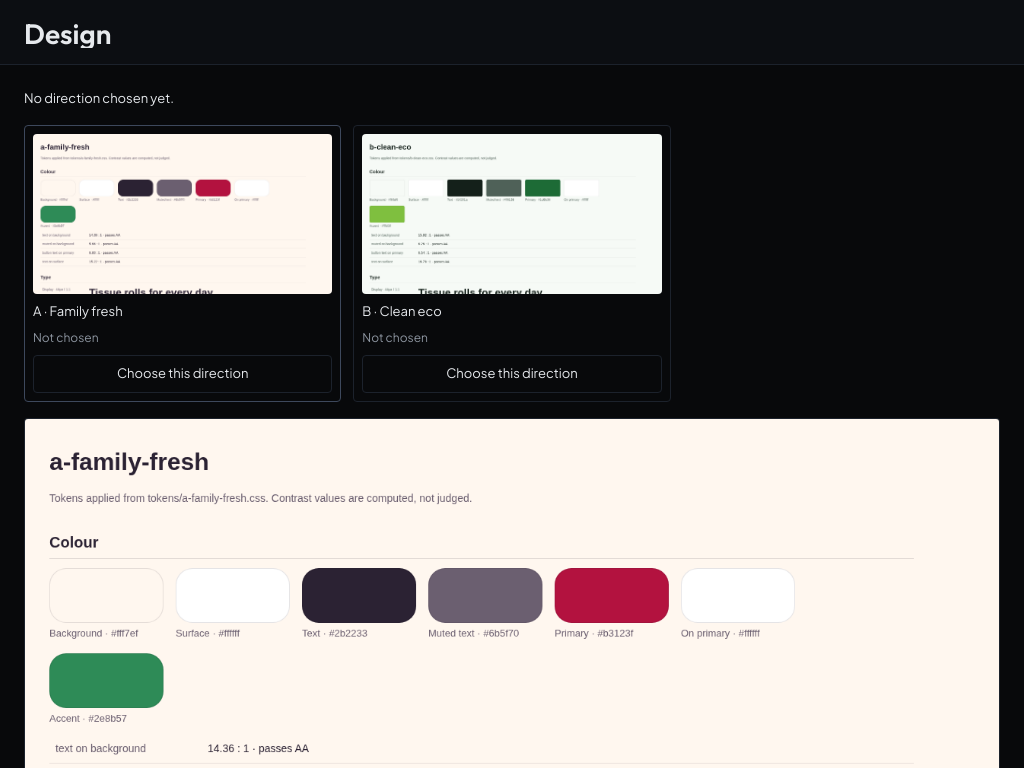
Test: choosing a design direction › shows the server refusal instead of pretending it worked
Click the 1st button "Choose this direction" at [183, 374], box [33, 355, 332, 392]
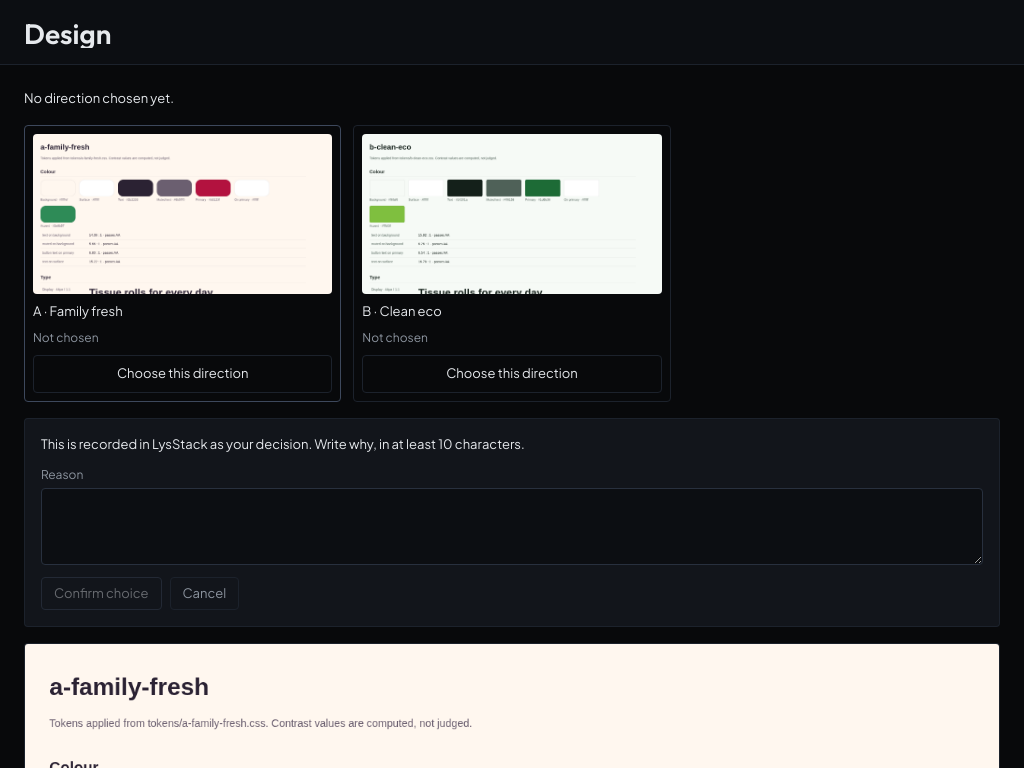
Type "A long enough reason." into the text box labelled "Reason" at [512, 526], box [41, 488, 983, 564]
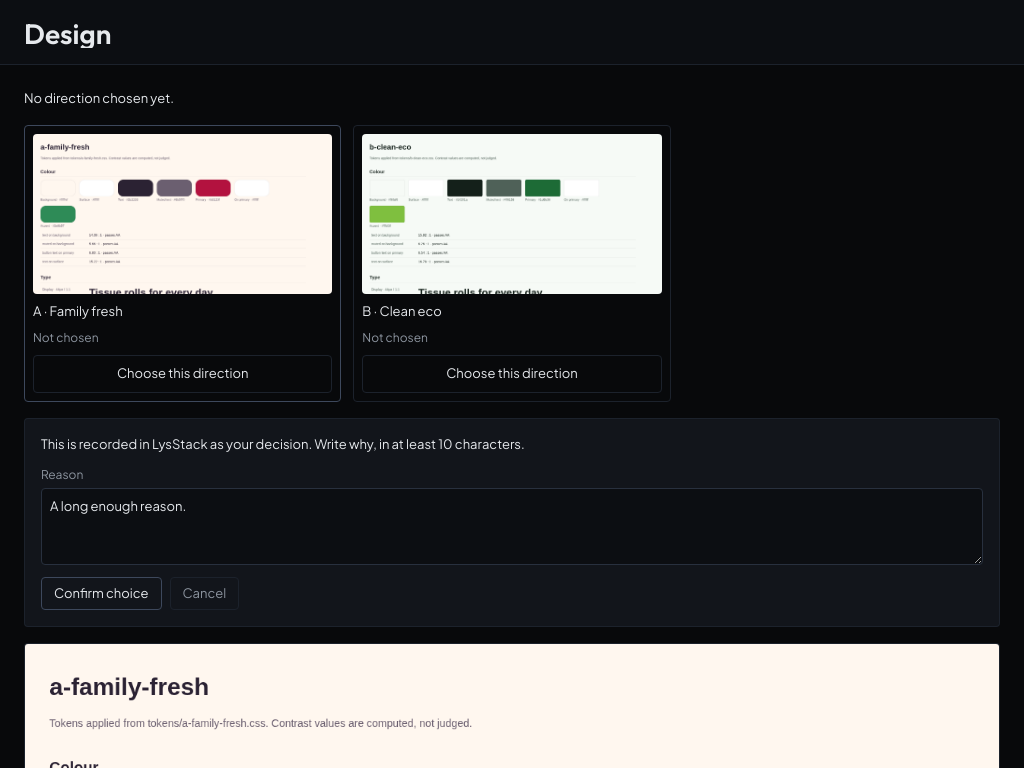
Click the button "Confirm choice" at [101, 593], box [41, 576, 162, 610]
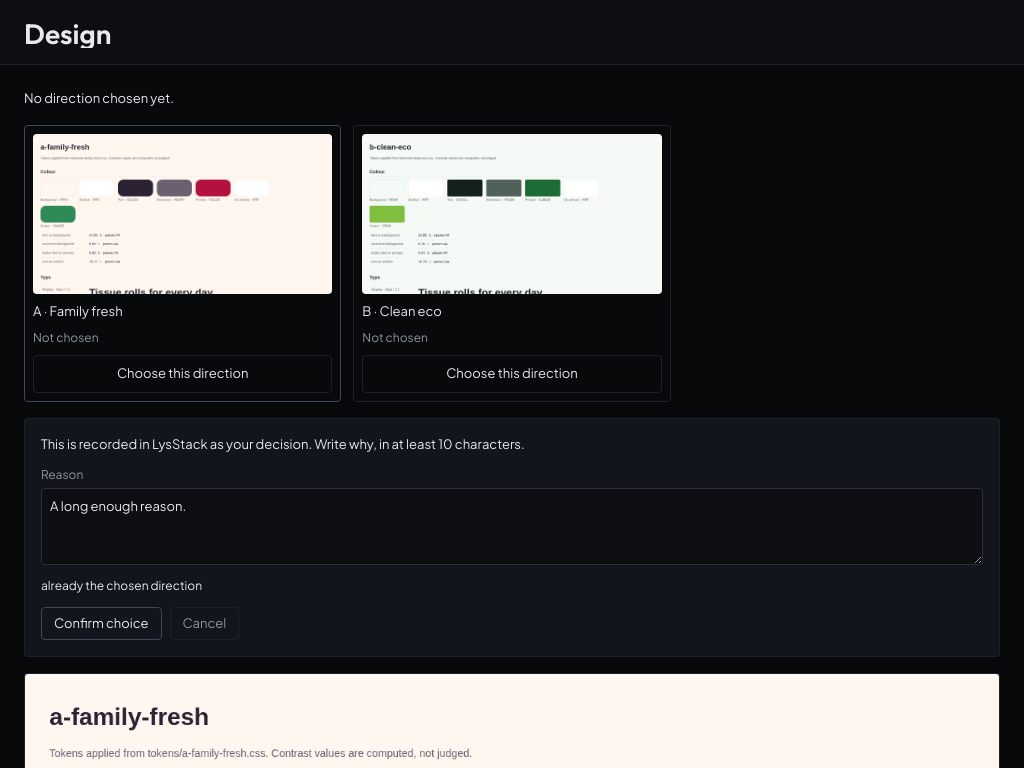
Check: the message reads "already the chosen direction", box [41, 578, 202, 592]
